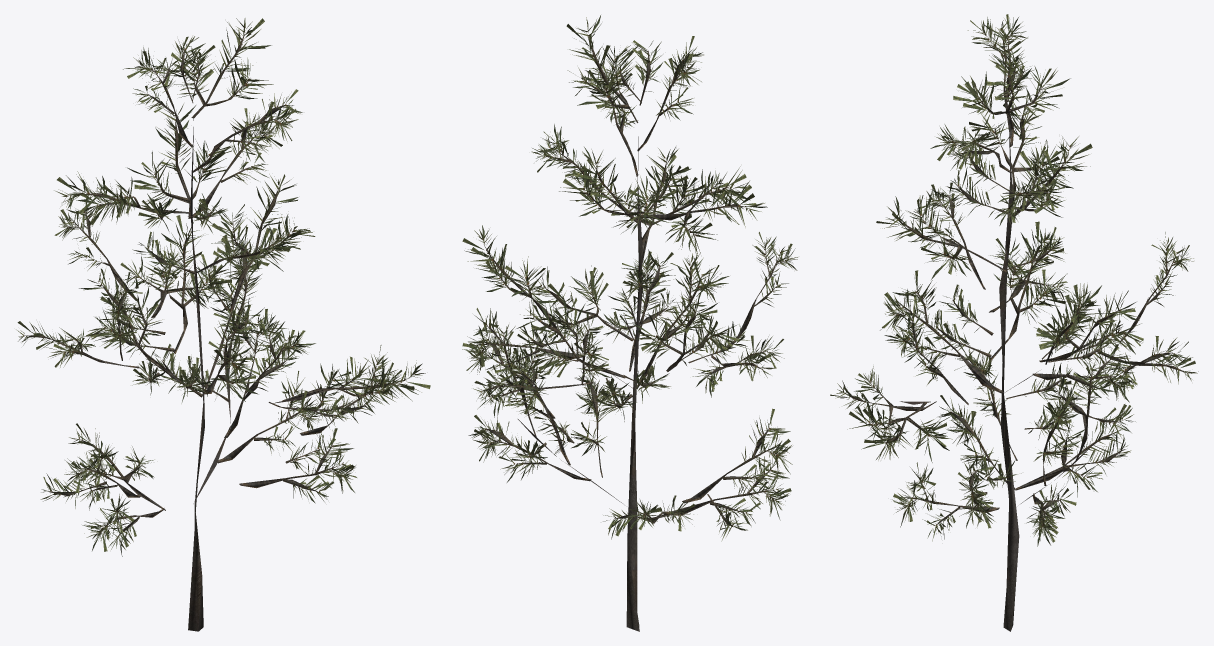
File: pine_sapling.glb
3 views of the same model, side by side, from view 1: azimuth 30°, elevation 25°; view 2: azimuth 150°, elevation 25°; view 3: azimuth 270°, elevation 25° (orthographic).
Visible parts, largest first — view 1: pine_sapling_small_a; view 2: pine_sapling_small_a; view 3: pine_sapling_small_a.
Part boxes in pixels (x1,y1,x2,y2): pine_sapling_small_a: [16, 18, 430, 631]; pine_sapling_small_a: [462, 15, 797, 631]; pine_sapling_small_a: [830, 14, 1198, 631].
Size of the model in its own units: 0.7826 by 1.3 by 0.7262.
Materials: 2 (2 with a texture image).
